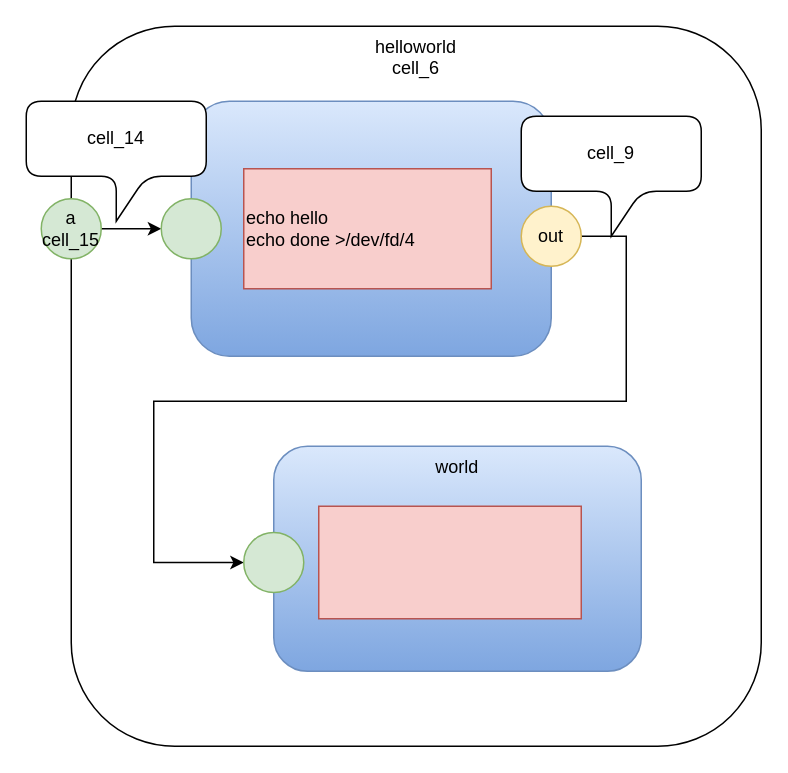
This 788x773 diagram has some shape labels left out. Each missing label, with the box of its shape:
b cell_16: (160, 197, 221, 259)
hello cell_7: (190, 100, 551, 356)
in: (242, 531, 304, 592)
read </dev/fd/3 echo world # no output: (317, 505, 581, 619)
